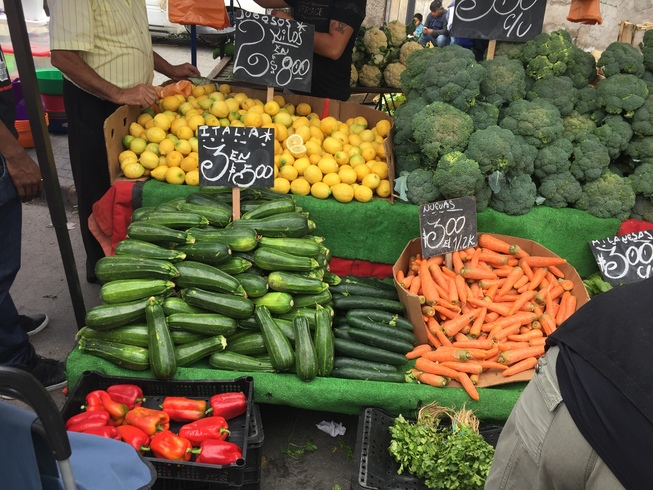precio: (222, 13, 314, 89), (194, 119, 280, 196), (416, 194, 487, 267), (581, 223, 653, 284)
